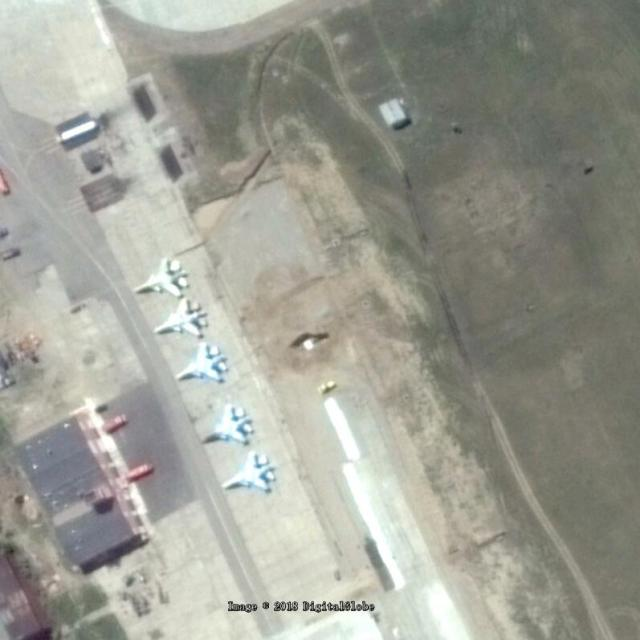fighter jet: (221, 448, 277, 494), (179, 339, 229, 386), (202, 400, 255, 444), (134, 254, 188, 294), (155, 298, 207, 336)
